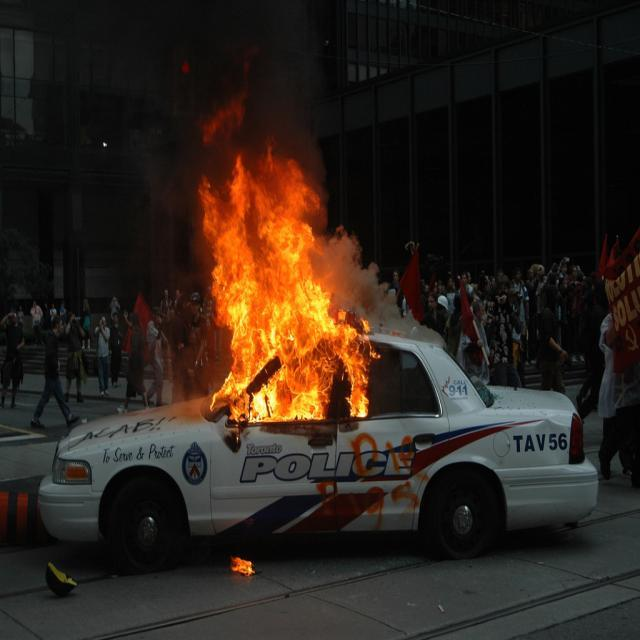Fire: (217, 172, 322, 314), (238, 318, 368, 417)
